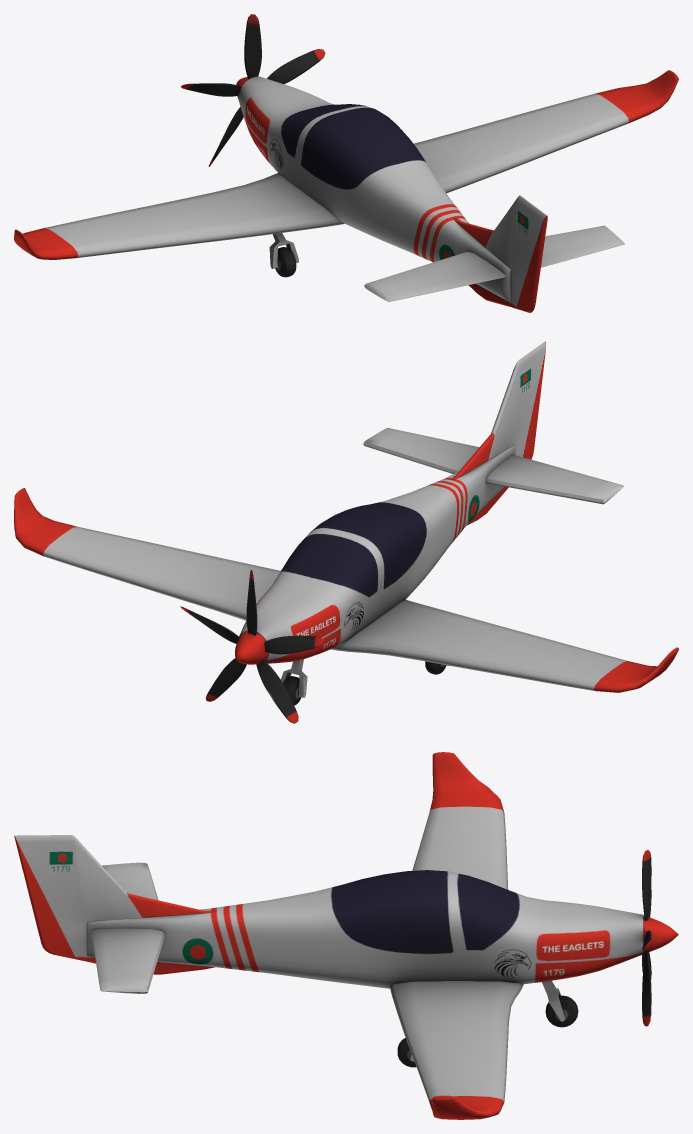
File: Airplane_VGJR_G120TP.glb
The picture shows the model from 3 angles, top to bottom: view 1: azimuth 30°, elevation 25°; view 2: azimuth 150°, elevation 25°; view 3: azimuth 270°, elevation 25°; orthographic projection. The views are drawn at different scales.
Parts seen in each view (by area): view 1: Body, Propeller, Landing_Wheel; view 2: Body, Propeller, Landing_Wheel; view 3: Body, Propeller, Landing_Wheel.
Boxes of the visible parts, box(x1,y1,x2,y2) form: Body: box(14, 70, 678, 312); Propeller: box(181, 14, 325, 166); Landing_Wheel: box(269, 233, 298, 277); Body: box(14, 341, 678, 692); Propeller: box(180, 569, 323, 723); Landing_Wheel: box(280, 659, 449, 705); Body: box(14, 752, 643, 1119); Propeller: box(642, 850, 678, 1026); Landing_Wheel: box(397, 980, 578, 1067).
Size of the model in its own units: 1.03 by 0.2658 by 0.8361.
Materials: 1 (1 with a texture image).
